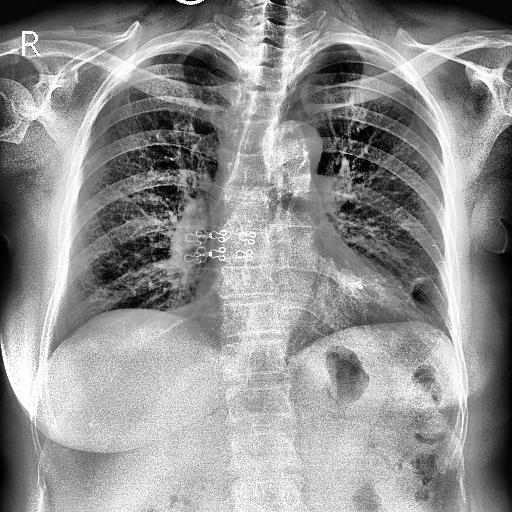0- Aortic enlargement: (266, 122, 322, 194), (270, 122, 323, 172), (272, 122, 321, 170)
13- Pulmonary fibrosis: (404, 270, 443, 298), (408, 274, 428, 292)
3- Cardiomegaly: (194, 264, 426, 334), (192, 278, 422, 338), (194, 274, 417, 320)
